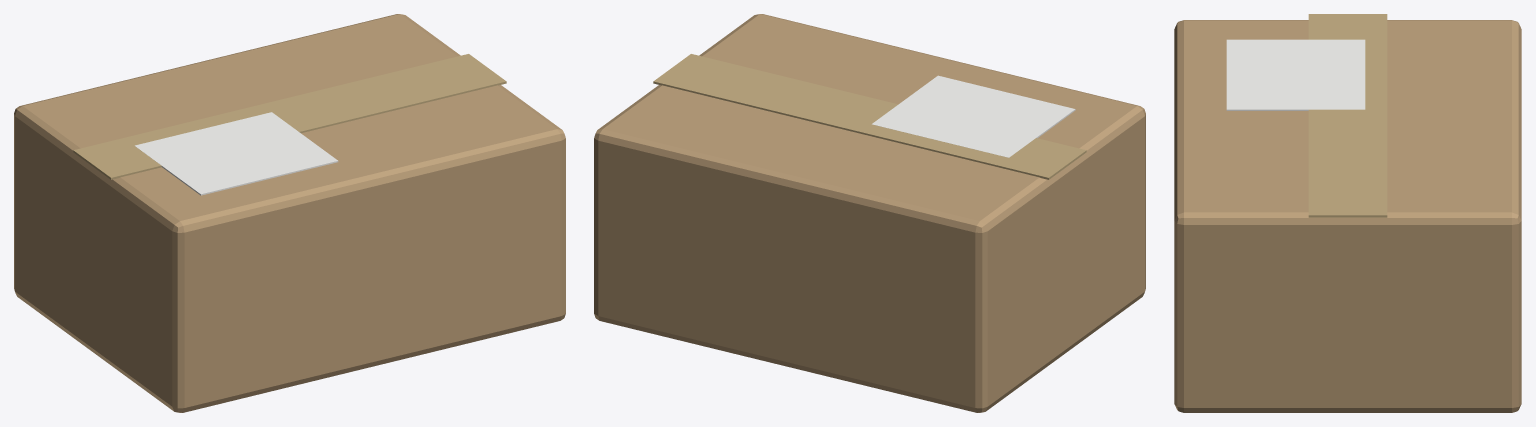
Rendered from libiao_parcel_box_s.fbx.
The picture shows the model from 3 angles, left to right: view 1: azimuth 30°, elevation 25°; view 2: azimuth 150°, elevation 25°; view 3: azimuth 270°, elevation 25°; orthographic projection. The views are drawn at different scales.
Parts seen in each view (by area): view 1: Parcel_box_s; view 2: Parcel_box_s; view 3: Parcel_box_s.
Part boxes in pixels (bbox=[...]): Parcel_box_s: bbox=[14, 14, 565, 412]; Parcel_box_s: bbox=[594, 14, 1145, 412]; Parcel_box_s: bbox=[1174, 14, 1521, 412].
Size of the model in its own units: 0.302 by 0.1413 by 0.22.
